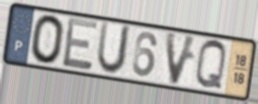6: (131, 31, 160, 79)
E: (61, 16, 100, 72)
O: (29, 13, 67, 67)
Q: (193, 38, 228, 93)
U: (94, 20, 134, 77)
V: (164, 29, 200, 88)
